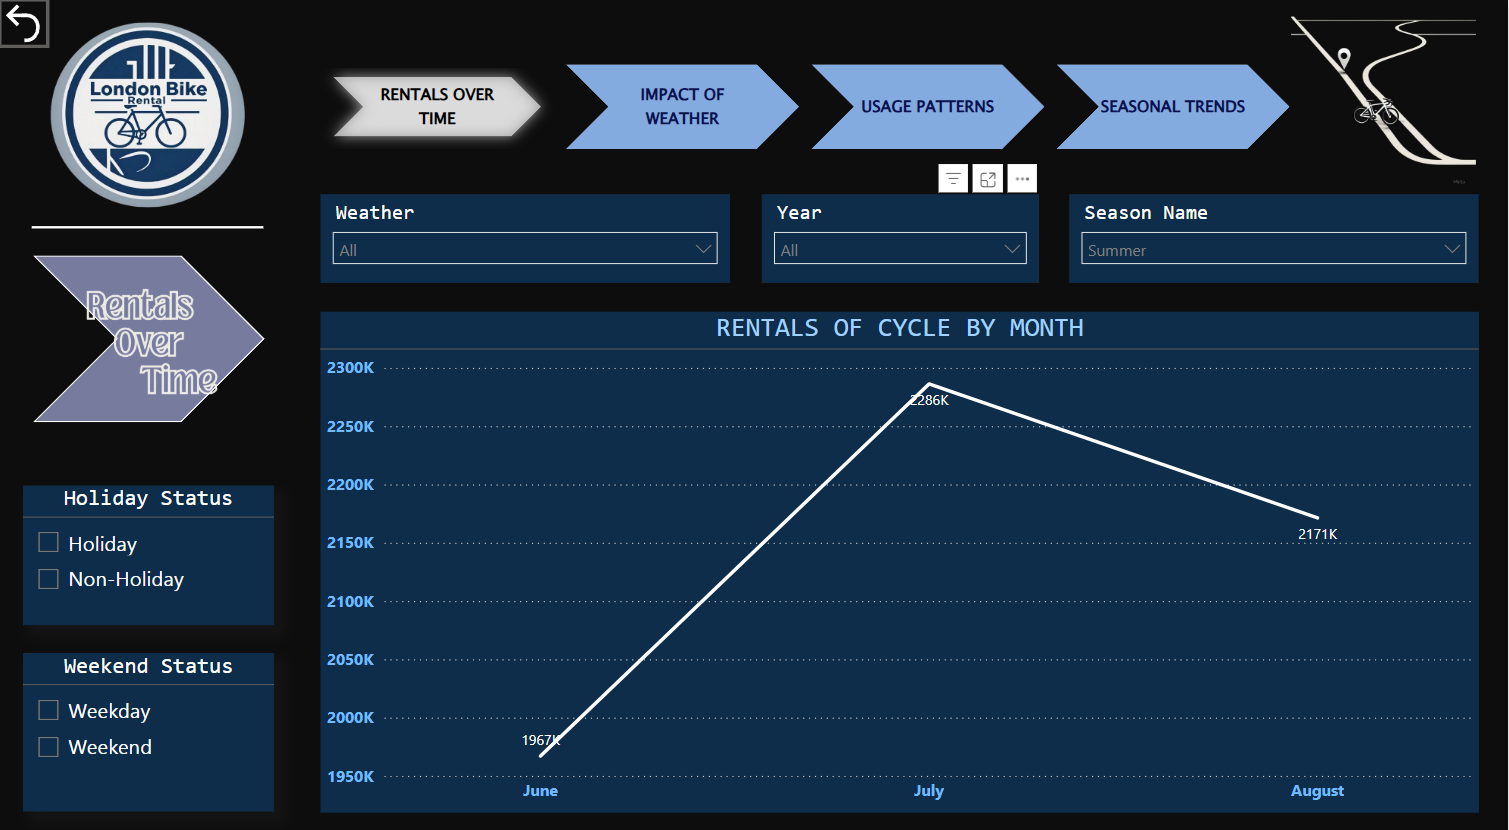

Layout of this report page (visuals, bound fields, positions):
{"tool":"powerbi","page":{"name":"RENTALS OVER TIME","canvas":[1280,720],"ordinal":0},"visuals":[{"type":"lineChart","title":"RENTALS OF CYCLE BY MONTH","fields":{"Y":["Sum(london_merged.cnt)"],"Category":["london_merged.timestamp.Variation.Date Hierarchy.Month"]},"box":[273.3,266.3,982.6,424.4],"z":0},{"type":"slicer","fields":{"Values":["london_merged.Weather Description"]},"box":[273.3,166.3,347.1,74.8],"z":1000},{"type":"slicer","fields":{"Values":["london_merged.timestamp.Variation.Date Hierarchy.Year"]},"box":[647.5,166.3,234.9,74.8],"z":2000},{"type":"slicer","title":"Holiday Status","fields":{"Values":["london_merged.Holiday Status"]},"box":[20.9,414,212.8,118.6],"z":3000},{"type":"slicer","fields":{"Values":["london_merged.Season Name"]},"box":[908.3,166.3,347.1,74.8],"z":4000},{"type":"slicer","title":"Weekend Status","fields":{"Values":["london_merged.Weekend Status"]},"box":[20.8,556,213,134.1],"z":5000},{"type":"image","box":[1068.4,0,212,166.3],"z":6000},{"type":"image","box":[29.1,15.6,196.4,166.3],"z":7000},{"type":"shape","box":[29.1,111.2,196.4,166.3],"z":8000},{"type":"shape","box":[30.1,218.2,196.4,141.3],"z":9000},{"type":"actionButton","box":[0,0,43.6,42.6],"z":10000},{"type":"pageNavigator","title":"RENTALS OVER TIME","box":[273.3,55.8,824.4,72.1],"z":11000},{"type":"image","box":[0,194.2,262.8,247.7],"z":12000}]}

Visuals, with their boxes in screenshot pixels (x1, y1, x2, y2), scaled from the page's 1280x720 canvas onto the 1509x830 screenshot:
"RENTALS OF CYCLE BY MONTH" lineChart: {"left": 322, "top": 307, "right": 1481, "bottom": 796}
slicer - london_merged.Weather Description: {"left": 322, "top": 192, "right": 731, "bottom": 278}
slicer - london_merged.timestamp.Variation.Date Hierarchy.Year: {"left": 763, "top": 192, "right": 1040, "bottom": 278}
"Holiday Status" slicer: {"left": 25, "top": 477, "right": 276, "bottom": 614}
slicer - london_merged.Season Name: {"left": 1071, "top": 192, "right": 1480, "bottom": 278}
"Weekend Status" slicer: {"left": 25, "top": 641, "right": 276, "bottom": 796}
image: {"left": 1260, "top": 0, "right": 1508, "bottom": 192}
image: {"left": 34, "top": 18, "right": 266, "bottom": 210}
shape: {"left": 34, "top": 128, "right": 266, "bottom": 320}
shape: {"left": 35, "top": 252, "right": 267, "bottom": 414}
actionButton: {"left": 0, "top": 0, "right": 51, "bottom": 49}
"RENTALS OVER TIME" pageNavigator: {"left": 322, "top": 64, "right": 1294, "bottom": 147}
image: {"left": 0, "top": 224, "right": 310, "bottom": 509}
